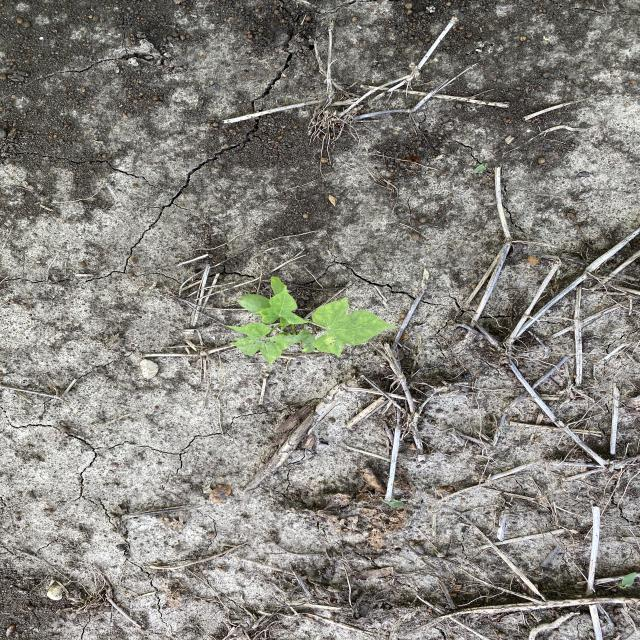MorningGlory: (221, 275, 402, 364)
